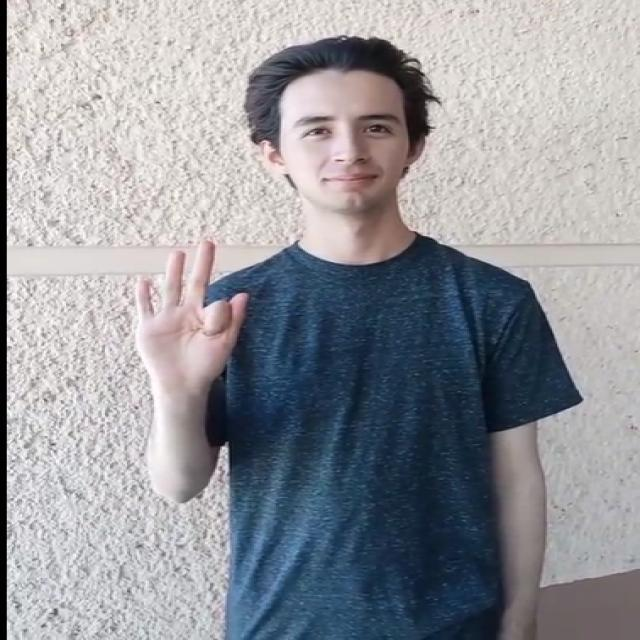F: (123, 230, 266, 428)
